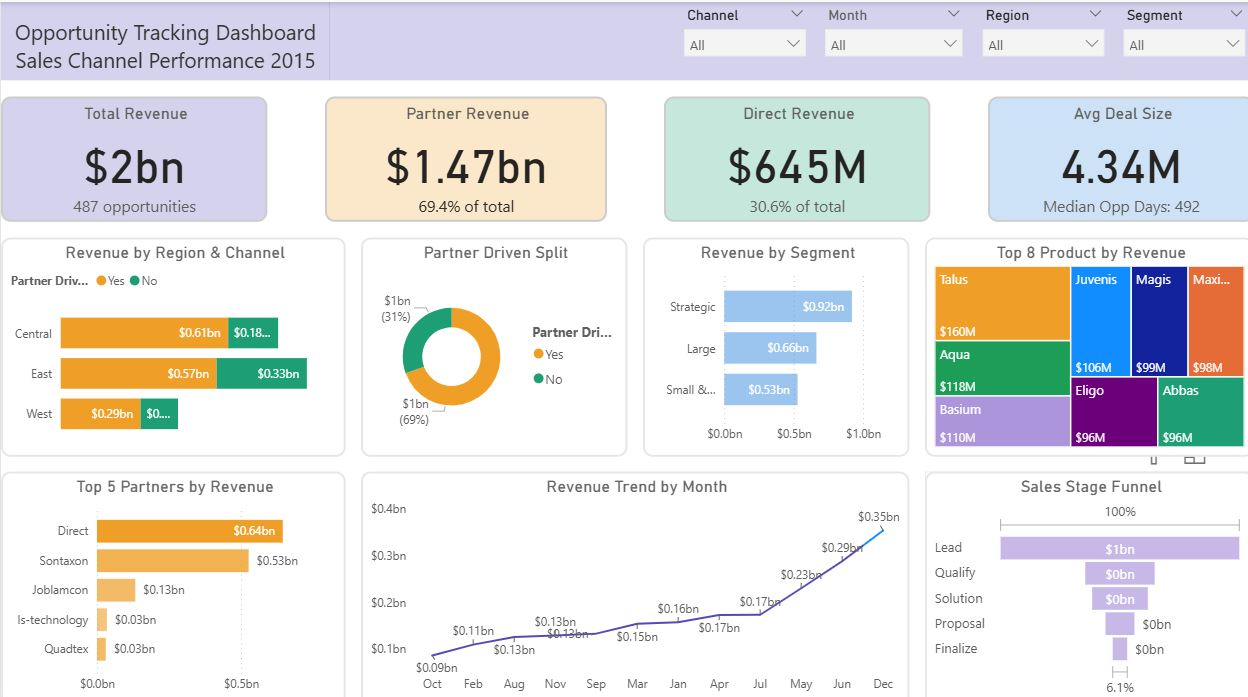

Layout of this report page (visuals, bound fields, positions):
{"tool":"powerbi","page":{"name":" Executive Overview","canvas":[1280,720],"ordinal":0},"visuals":[{"type":"donutChart","title":"Partner Driven Split","fields":{"Y":["Fact.Total Revenue"],"Category":["Partner.Partner Driven"]},"box":[368,240,272,224],"z":0},{"type":"card","title":"Total Revenue","fields":{"Values":["Fact.Total Revenue"]},"box":[0,96,272,128],"z":2000},{"type":"shape","box":[336,0,944,80],"z":3000},{"type":"card","title":"Partner Revenue","fields":{"Values":["Fact.Partner Revenue"]},"box":[330.7,96,288,128],"z":4000},{"type":"card","title":"Direct Revenue","fields":{"Values":["Fact.Direct Revenue"]},"box":[677.3,96,272,128],"z":5000},{"type":"card","title":"Avg Deal Size","fields":{"Values":["Fact.Avg Deal Size"]},"box":[1008,96,272,128],"z":6000},{"type":"barChart","title":"Revenue by Region & Channel","fields":{"Category":["Account.Region"],"Y":["Fact.Total Revenue"],"Series":["Partner.Partner Driven"]},"box":[0,240,352,224],"z":7000},{"type":"barChart","title":"Revenue by Segment","fields":{"Category":["Account.Segment"],"Y":["Fact.Total Revenue"]},"box":[656,240,272,224],"z":8000},{"type":"funnel","title":"Sales Stage Funnel","fields":{"Category":["Sales Stage.Sales Stage"],"Y":["Fact.Total Revenue"]},"box":[944,480,336,240],"z":9000},{"type":"barChart","title":"Top 5 Partners by Revenue","fields":{"Category":["Partner.Partner"],"Y":["Fact.Total Revenue"]},"box":[0,480,352,240],"z":10000},{"type":"treemap","title":"Top 8 Product by Revenue","fields":{"Group":["Product.Product Code"],"Values":["Fact.Total Revenue"]},"box":[944,240,336,224],"z":11000},{"type":"lineChart","title":"Revenue Trend by Month","fields":{"Y":["Fact.Total Revenue"],"Category":["Fact.MonthName"]},"box":[368,480,560,240],"z":12000},{"type":"slicer","fields":{"Values":["Fact.MonthName"]},"box":[832,0,160,80],"z":13000},{"type":"slicer","fields":{"Values":["Fact.Channel"]},"box":[688,0,144,80],"z":14000},{"type":"textbox","box":[0,0,336,80],"z":15000},{"type":"slicer","fields":{"Values":["Account.Segment"]},"box":[1136,0,144,80],"z":16000},{"type":"slicer","fields":{"Values":["Account.Region"]},"box":[992,0,144,80],"z":17000}]}

Visuals, with their boxes in screenshot pixels (x1, y1, x2, y2), scaled from the page's 1280x720 canvas onto the 1248x697 screenshot:
"Partner Driven Split" donutChart: box(359, 232, 624, 449)
"Total Revenue" card: box(0, 93, 265, 217)
shape: box(328, 0, 1247, 77)
"Partner Revenue" card: box(322, 93, 603, 217)
"Direct Revenue" card: box(660, 93, 926, 217)
"Avg Deal Size" card: box(983, 93, 1247, 217)
"Revenue by Region & Channel" barChart: box(0, 232, 343, 449)
"Revenue by Segment" barChart: box(640, 232, 905, 449)
"Sales Stage Funnel" funnel: box(920, 465, 1247, 696)
"Top 5 Partners by Revenue" barChart: box(0, 465, 343, 696)
"Top 8 Product by Revenue" treemap: box(920, 232, 1247, 449)
"Revenue Trend by Month" lineChart: box(359, 465, 905, 696)
slicer - Fact.MonthName: box(811, 0, 967, 77)
slicer - Fact.Channel: box(671, 0, 811, 77)
textbox: box(0, 0, 328, 77)
slicer - Account.Segment: box(1108, 0, 1247, 77)
slicer - Account.Region: box(967, 0, 1108, 77)
